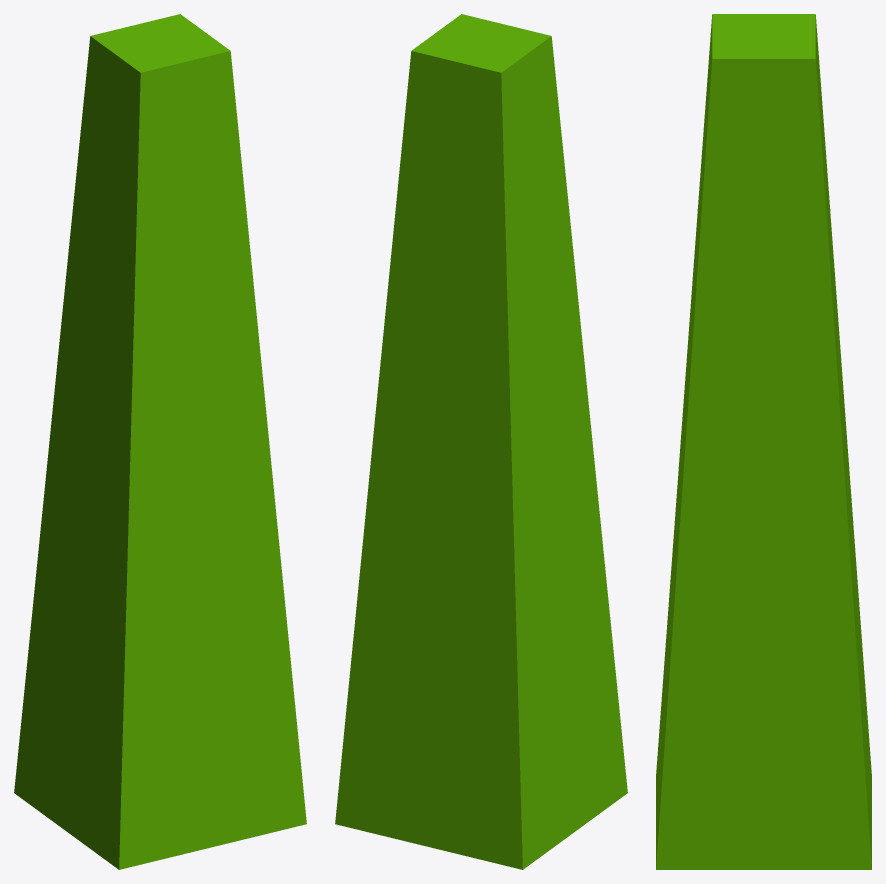
File: pepper_seedling.fbx
The picture shows the model from 3 angles, left to right: view 1: azimuth 30°, elevation 25°; view 2: azimuth 150°, elevation 25°; view 3: azimuth 270°, elevation 25°; orthographic projection. The views are drawn at different scales.
Visible parts, largest first — view 1: pepper_seedling; view 2: pepper_seedling; view 3: pepper_seedling.
Boxes of the visible parts, x1,y1,x2,y2 form: pepper_seedling: (14, 14, 306, 869); pepper_seedling: (335, 14, 627, 869); pepper_seedling: (656, 14, 871, 869).
Size of the model in its own units: 23.88 by 93.01 by 23.15.
